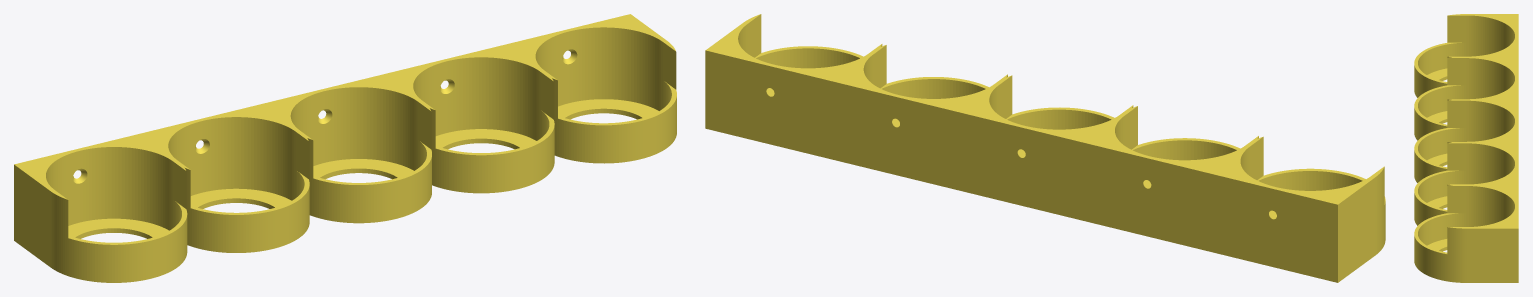
The model's file is openscad_spice-rack.glb.
3 views of the same model, side by side, from view 1: azimuth 30°, elevation 25°; view 2: azimuth 150°, elevation 25°; view 3: azimuth 270°, elevation 25° (orthographic). The views are drawn at different scales.
Visible parts, largest first — view 1: object; view 2: object; view 3: object.
Boxes of the visible parts, left/top/right/bottom form: object: left=14, top=14, right=676, bottom=282; object: left=705, top=14, right=1385, bottom=282; object: left=1414, top=14, right=1518, bottom=282.
Size of the model in its own units: 212 by 25.01 by 43.51.
